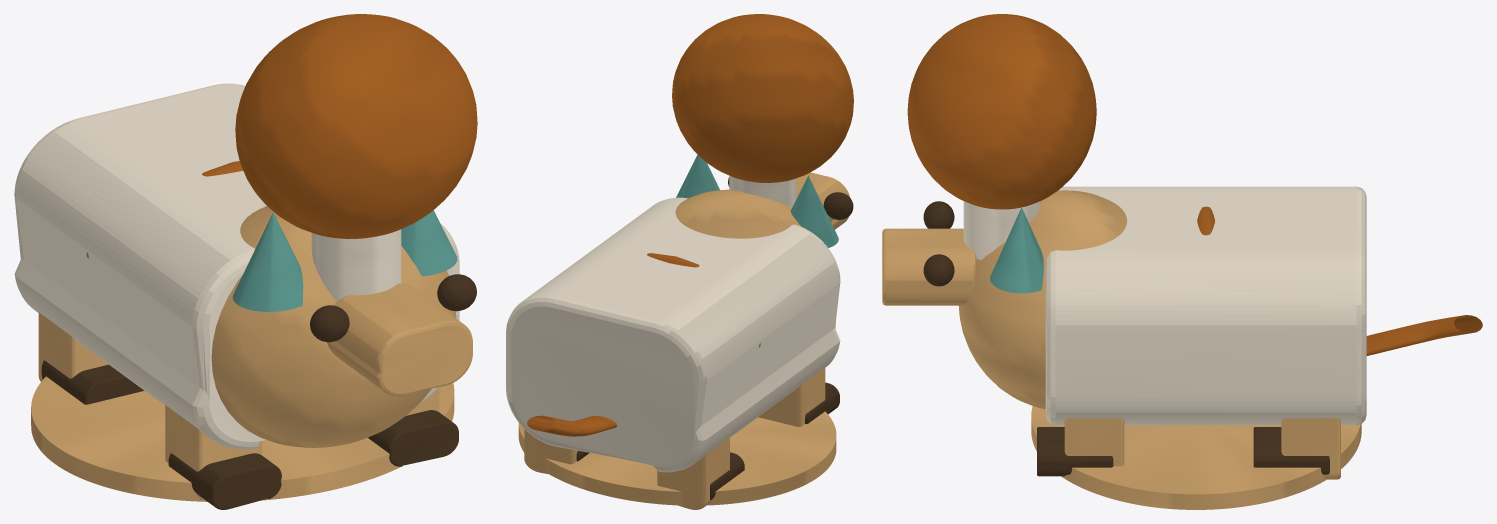
Rendered from 0586_非洲动物图鉴_马赛长颈鹿.glb.
The picture shows the model from 3 angles, left to right: view 1: azimuth 30°, elevation 25°; view 2: azimuth 150°, elevation 25°; view 3: azimuth 270°, elevation 25°; orthographic projection. The views are drawn at different scales.
Visible parts, largest first — view 1: card_0586; view 2: card_0586; view 3: card_0586.
Boxes of the visible parts, left/top/right/bottom form: card_0586: left=14, top=14, right=477, bottom=509; card_0586: left=506, top=14, right=853, bottom=509; card_0586: left=882, top=14, right=1482, bottom=509.
Bounding box in the file's own units: 0.8205 × 1 × 1.33.
